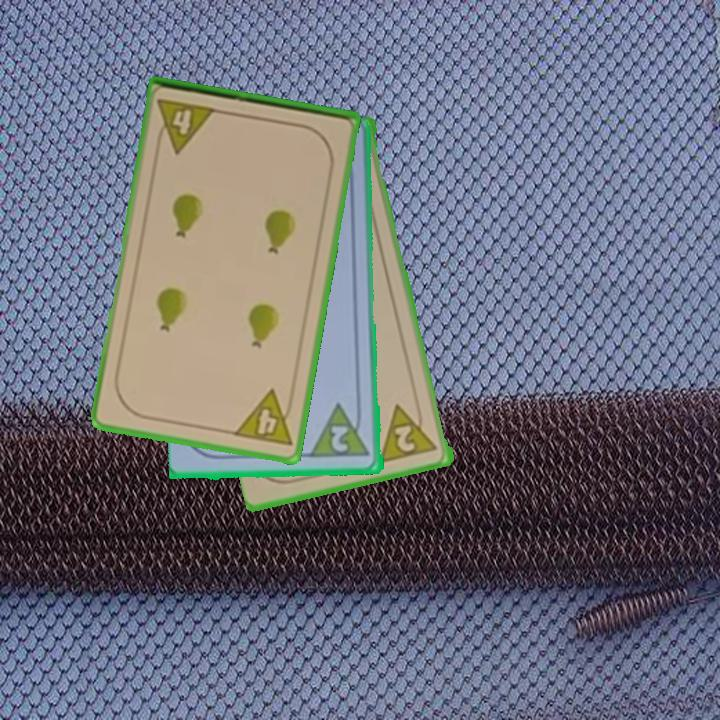2p: (378, 398, 441, 466), (309, 401, 373, 461)
4p: (230, 386, 298, 449), (152, 95, 219, 156)
